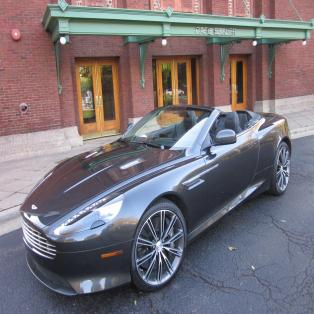Auto: (17, 101, 294, 299)
